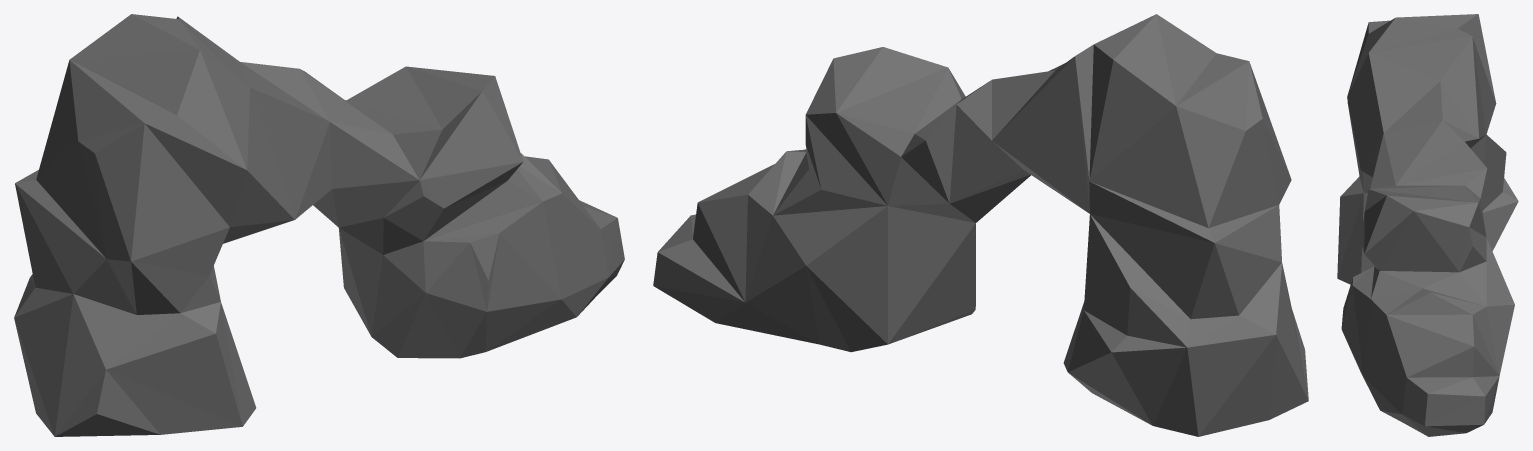
File: Stone_A_07.FBX
3 views of the same model, side by side, from view 1: azimuth 30°, elevation 25°; view 2: azimuth 150°, elevation 25°; view 3: azimuth 270°, elevation 25° (orthographic). The views are drawn at different scales.
Visible parts, largest first — view 1: Stone_A_07; view 2: Stone_A_07; view 3: Stone_A_07.
Part boxes in pixels (x1,y1,x2,y2): Stone_A_07: (14,14,624,436); Stone_A_07: (653,14,1308,436); Stone_A_07: (1337,14,1518,436).
Size of the model in its own units: 17.9 by 10 by 6.33.
